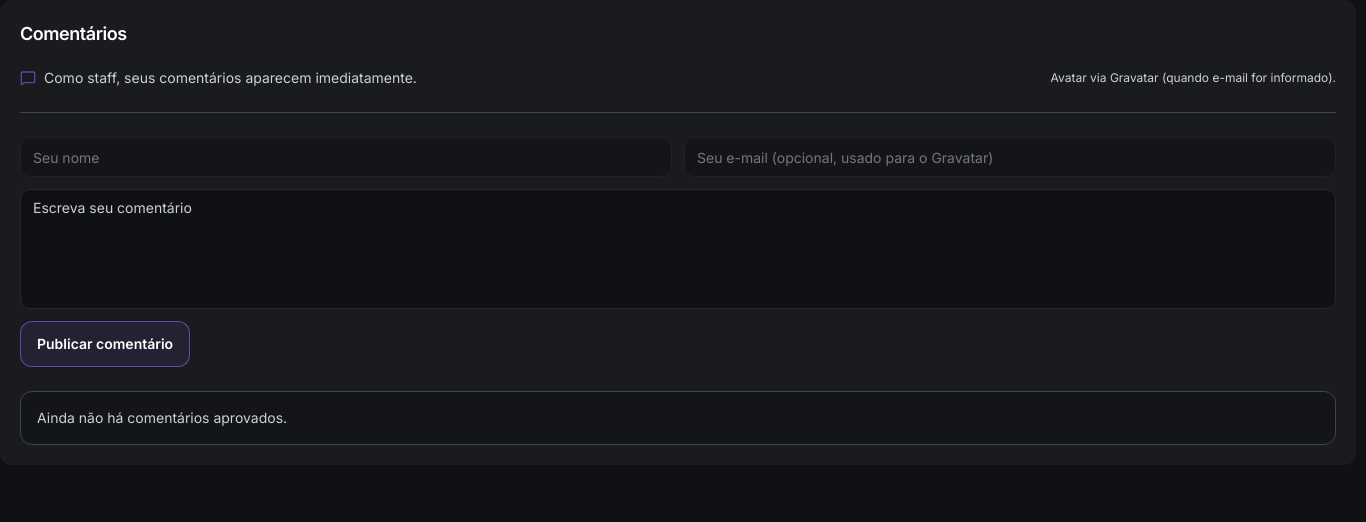
Test: CommentsSection auto-refresh › recarrega comentarios automaticamente apos envio aprovado de staff
This screenshot has width=1366, height=522.
Expected: the text "Como staff, seus comentários aparecem imediatamente." is shown, [20,68,417,88]
In the text box with placeholder "Escreva seu comentário": (678, 249) [20,189,1336,309], type "Comentario da staff"
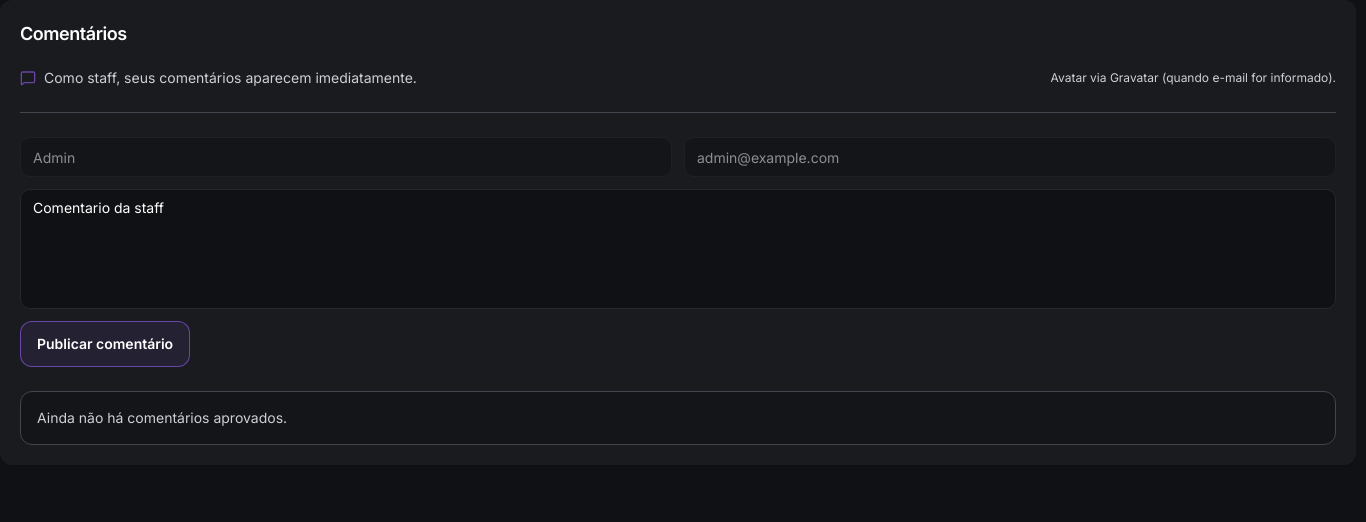
Click the button "Publicar comentário": click(105, 344) [20,321,190,367]
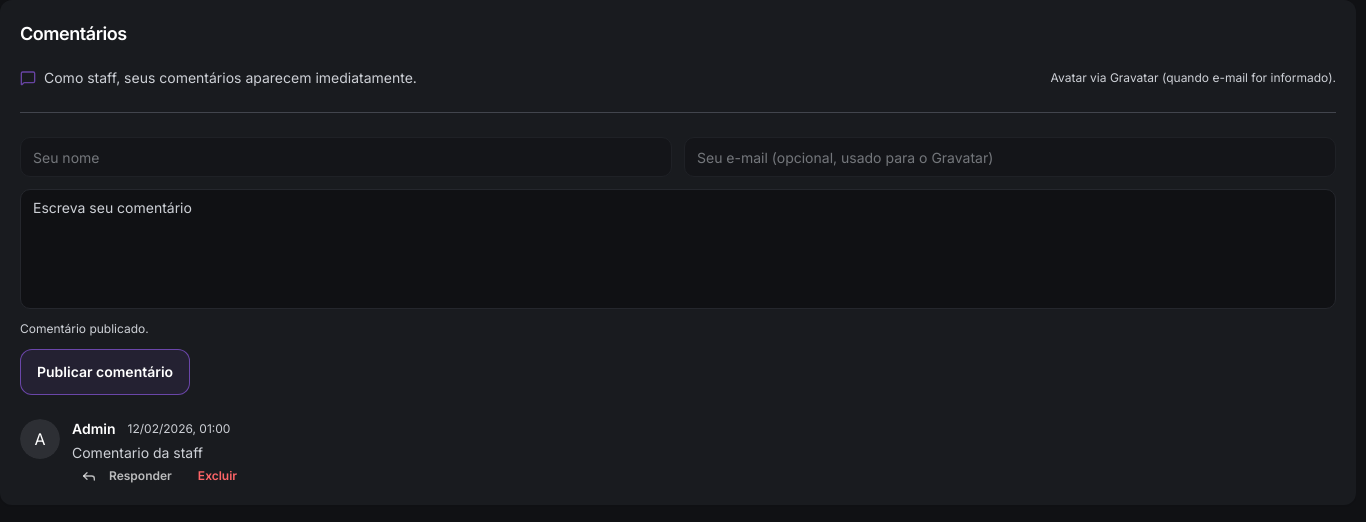
Expected: the text "Comentário publicado." is shown, [20,321,149,336]
Expected: the text "Comentario da staff" is shown, [72,444,203,461]
